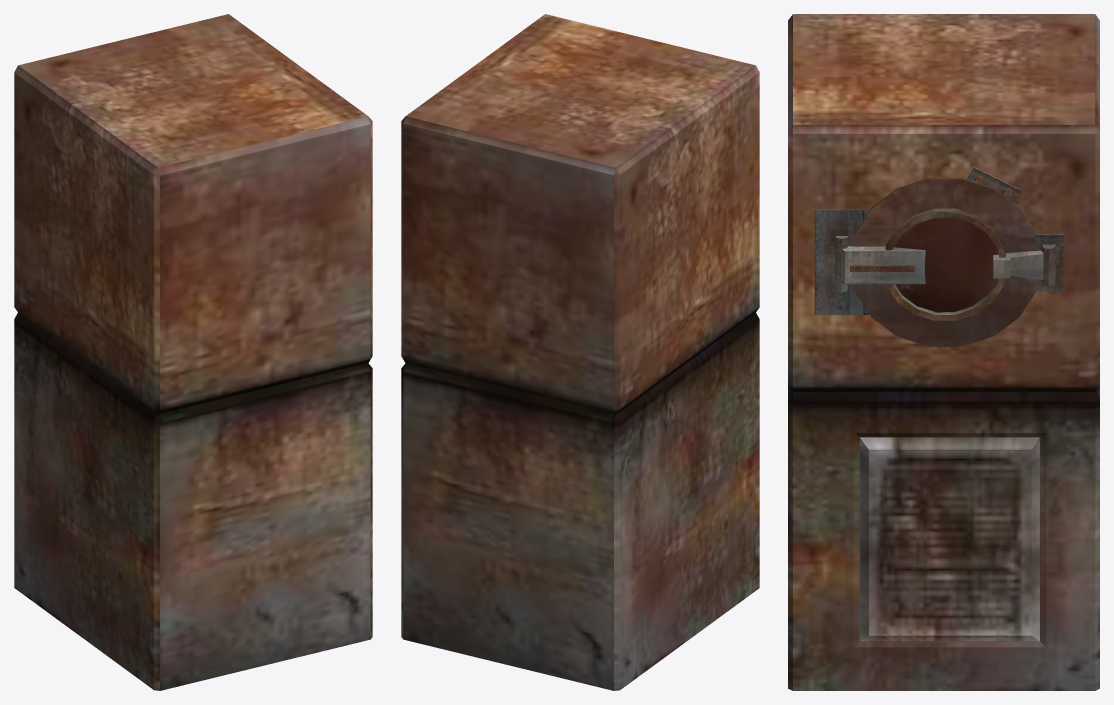
File: laundry_dryer001.glb
3 renders of one model, left to right at view 1: azimuth 30°, elevation 25°; view 2: azimuth 150°, elevation 25°; view 3: azimuth 270°, elevation 25°, orthographic. The views are drawn at different scales.
Visible parts, largest first — view 1: 0_laundry_machines002; view 2: 0_laundry_machines002; view 3: 0_laundry_machines002, 1_laundry_machines002_02.
Boxes of the visible parts, x1,y1,x2,y2 form: 0_laundry_machines002: (14, 14, 372, 690); 0_laundry_machines002: (401, 14, 759, 690); 0_laundry_machines002: (788, 14, 1099, 690); 1_laundry_machines002_02: (894, 217, 998, 311).
Bounding box in the file's own units: 1.43 × 3.06 × 1.54.
Materials: 2 (2 with a texture image).
